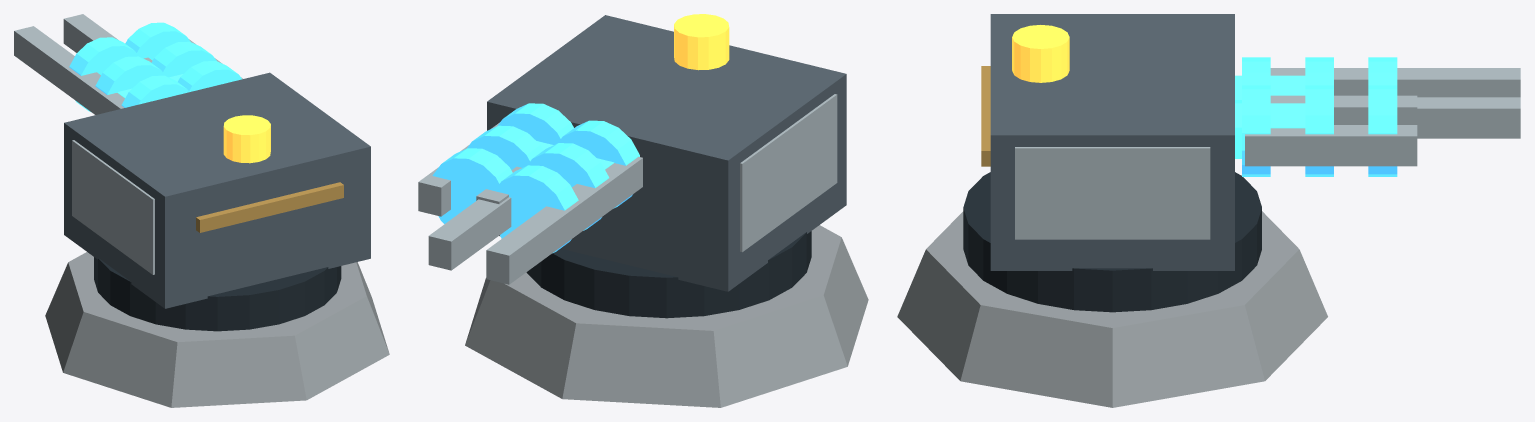
Rendered from particle-cannon.glb.
The picture shows the model from 3 angles, left to right: view 1: azimuth 30°, elevation 25°; view 2: azimuth 150°, elevation 25°; view 3: azimuth 270°, elevation 25°; orthographic projection. The views are drawn at different scales.
Visible parts, largest first — view 1: armored turret, octagonal emplacement, azimuth bearing, side armor module, split accelerator rail, gold identification bar, sensor, magnetic coil.002, magnetic coil.001, magnetic coil.005, magnetic coil.004, magnetic coil.003 (+2 smaller); view 2: armored turret, octagonal emplacement, azimuth bearing, side armor module, split accelerator rail, split accelerator rail.001, magnetic coil.002, magnetic coil.005, sensor, magnetic coil.001, magnetic coil, magnetic coil.004 (+2 smaller); view 3: octagonal emplacement, armored turret, side armor module.001, azimuth bearing, split accelerator rail.003, split accelerator rail, split accelerator rail.001, sensor, split accelerator rail.002, magnetic coil.003, magnetic coil.005, magnetic coil.004 (+6 smaller).
Part boxes in pixels (x1=…): armored turret: x1=64, y1=72, x2=370, y2=308; octagonal emplacement: x1=45, y1=252, x2=389, y2=407; azimuth bearing: x1=94, y1=257, x2=341, y2=331; side armor module: x1=72, y1=140, x2=154, y2=274; split accelerator rail: x1=14, y1=26, x2=124, y2=114; gold identification bar: x1=196, y1=182, x2=343, y2=232; sensor: x1=223, y1=115, x2=270, y2=163; magnetic coil.002: x1=69, y1=37, x2=138, y2=112; magnetic coil.001: x1=95, y1=56, x2=164, y2=94; magnetic coil.005: x1=125, y1=22, x2=190, y2=60; magnetic coil.004: x1=151, y1=41, x2=216, y2=77; magnetic coil.003: x1=178, y1=61, x2=241, y2=92; armored turret: x1=487, y1=15, x2=846, y2=291; octagonal emplacement: x1=465, y1=225, x2=868, y2=407; azimuth bearing: x1=526, y1=231, x2=811, y2=318; side armor module: x1=740, y1=94, x2=837, y2=252; split accelerator rail: x1=486, y1=156, x2=642, y2=284; split accelerator rail.001: x1=428, y1=197, x2=511, y2=270; magnetic coil.002: x1=494, y1=165, x2=578, y2=253; magnetic coil.005: x1=432, y1=148, x2=512, y2=223; sensor: x1=674, y1=14, x2=729, y2=70; magnetic coil.001: x1=527, y1=143, x2=609, y2=230; magnetic coil: x1=558, y1=120, x2=639, y2=208; magnetic coil.004: x1=467, y1=125, x2=543, y2=169; octagonal emplacement: x1=897, y1=211, x2=1327, y2=407; armored turret: x1=990, y1=14, x2=1234, y2=270; side armor module.001: x1=1015, y1=147, x2=1210, y2=239; azimuth bearing: x1=963, y1=172, x2=1261, y2=312; split accelerator rail.003: x1=1245, y1=125, x2=1417, y2=166; split accelerator rail: x1=1270, y1=68, x2=1520, y2=97; split accelerator rail.001: x1=1417, y1=97, x2=1520, y2=138; sensor: x1=1012, y1=25, x2=1069, y2=82; split accelerator rail.002: x1=1270, y1=95, x2=1417, y2=124; magnetic coil.003: x1=1242, y1=85, x2=1270, y2=176; magnetic coil.005: x1=1368, y1=85, x2=1397, y2=176; magnetic coil.004: x1=1305, y1=85, x2=1333, y2=176.
Size of the model in its own units: 1.5 by 1.07 by 2.17.
